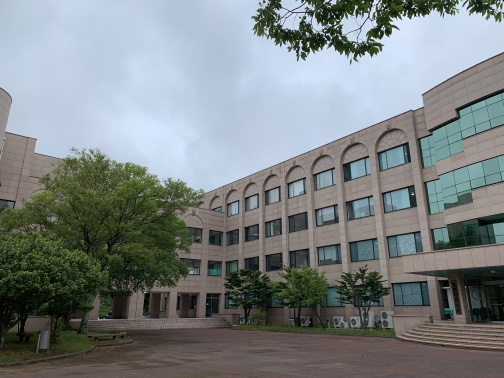Joint Experimental Labs: (1, 85, 36, 207)
Natural Science2: (222, 59, 503, 348)
